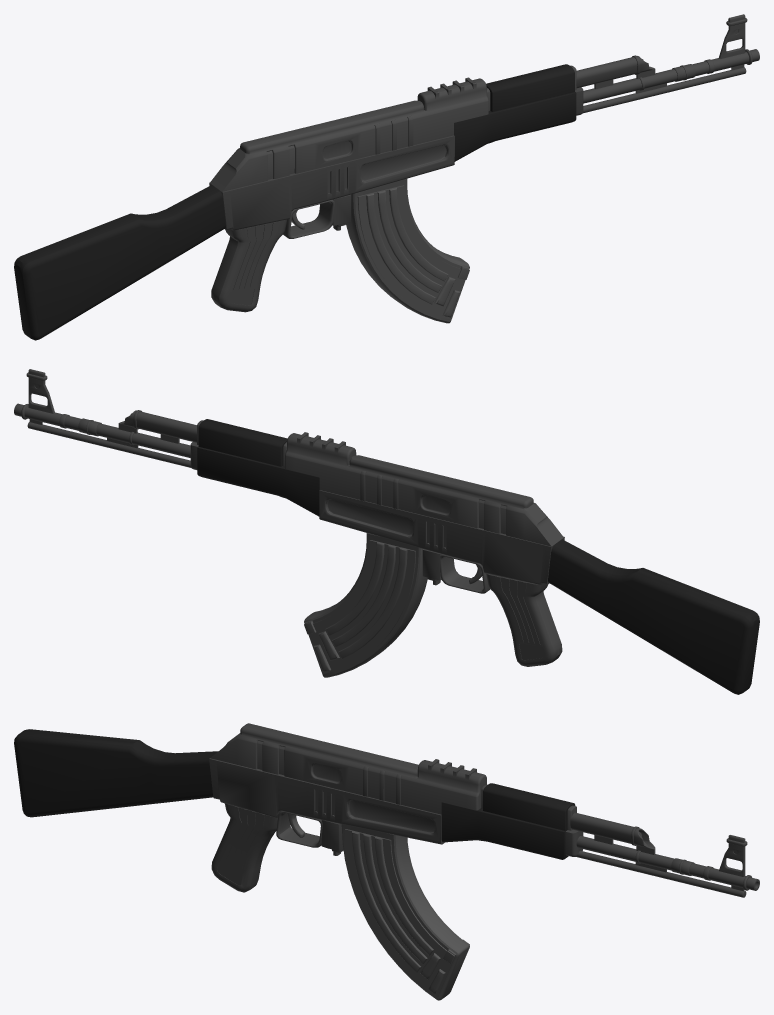
The model's file is ak47black.fbx.
The picture shows the model from 3 angles, top to bottom: view 1: azimuth 30°, elevation 25°; view 2: azimuth 150°, elevation 25°; view 3: azimuth 330°, elevation 25°; orthographic projection.
Visible parts, largest first — view 1: Cube.012, Cube.011; view 2: Cube.012, Cube.011; view 3: Cube.012, Cube.011.
Part boxes in pixels (box(x1,y1,x2,y2)): Cube.012: box(14, 14, 759, 340); Cube.011: box(346, 178, 469, 323); Cube.012: box(14, 369, 759, 694); Cube.011: box(304, 533, 427, 677); Cube.012: box(14, 723, 759, 897); Cube.011: box(341, 824, 469, 1000).
Size of the model in its own units: 373 by 112 by 14.61.
2 materials, 2 textured.
